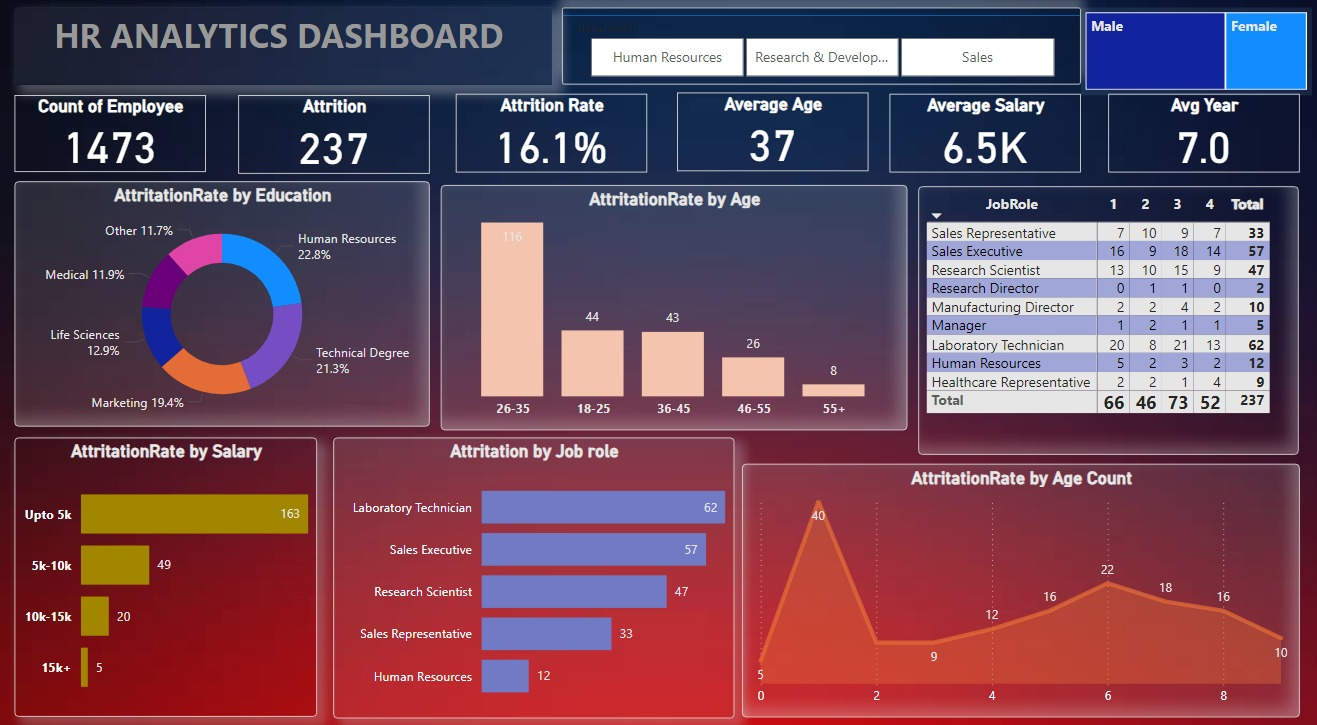

What the dashboard file says about the page in this screenshot:
{"tool":"powerbi","page":{"name":"Page 1","canvas":[1280,720],"ordinal":0},"visuals":[{"type":"card","title":"Count of Employee ","fields":{"Values":["CountNonNull(HR_Analytics.EmpID)"]},"box":[16.5,96.4,184.5,74.3],"z":0},{"type":"card","title":"Attrition","fields":{"Values":["Sum(HR_Analytics.Attrition_Count)"]},"box":[232.7,96.4,184.5,75.7],"z":1000},{"type":"card","title":"Attrition Rate","fields":{"Values":["HR_Analytics.AttritationRate"]},"box":[443.3,95,184.5,75.7],"z":2000},{"type":"card","title":"Average Age","fields":{"Values":["Avg(HR_Analytics.Age)"]},"box":[656.7,93.6,184.5,75.7],"z":3000},{"type":"card","title":"Average Salary","fields":{"Values":["Avg(HR_Analytics.MonthlyIncome)"]},"box":[861.8,95,184.5,75.7],"z":4000},{"type":"card","title":"Avg Year","fields":{"Values":["Avg(HR_Analytics.YearsAtCompany)"]},"box":[1072.4,95,184.5,75.7],"z":5000},{"type":"donutChart","title":"AttritationRate by Education","fields":{"Category":["HR_Analytics.EducationField"],"Y":["HR_Analytics.AttritationRate"]},"box":[16.5,180.3,400.6,236.8],"z":6000},{"type":"columnChart","title":"AttritationRate by Age","fields":{"Category":["HR_Analytics.AgeGroup"],"Y":["Sum(HR_Analytics.AttritionCount)"]},"box":[428.1,183.1,450.2,236.8],"z":7000},{"type":"pivotTable","title":"Job Satisfaction base of job role  ","fields":{"Rows":["HR_Analytics.JobRole"],"Columns":["HR_Analytics.JobSatisfaction"],"Values":["Sum(HR_Analytics.AttritionCount)"]},"box":[889.3,184.5,367.6,258.8],"z":8000},{"type":"barChart","title":"AttritationRate by Salary","fields":{"Category":["HR_Analytics.SalarySlab"],"Y":["Sum(HR_Analytics.AttritionCount)"]},"box":[16.5,426.8,291.8,269.8],"z":9000},{"type":"barChart","title":"Attritation by Job role ","fields":{"Y":["Sum(HR_Analytics.AttritionCount)"],"Category":["HR_Analytics.JobRole"]},"box":[324.9,426.8,386.8,271.2],"z":10000},{"type":"areaChart","title":"AttritationRate by Age Count","fields":{"Category":["HR_Analytics.TotalWorkingYears"],"Y":["Sum(HR_Analytics.AttritionCount)"]},"box":[718.6,452.9,538.3,245],"z":11000},{"type":"slicer","fields":{"Values":["HR_Analytics.Department"]},"box":[545.3,12.1,500.7,74.8],"z":12000},{"type":"textbox","box":[16.5,12.4,519,74.3],"z":13000},{"type":"treemap","fields":{"Group":["HR_Analytics.Gender"],"Values":["Sum(HR_Analytics.AttritionCount)"]},"box":[1046,12.1,223.2,84.5],"z":14000}]}

Visuals, with their boxes in screenshot pixels (x1, y1, x2, y2), scaled from the page's 1280x720 canvas onto the 1317x725 screenshot:
"Count of Employee " card: 17/97/207/172
"Attrition" card: 239/97/429/173
"Attrition Rate" card: 456/96/646/172
"Average Age" card: 676/94/866/170
"Average Salary" card: 887/96/1077/172
"Avg Year" card: 1103/96/1293/172
"AttritationRate by Education" donutChart: 17/182/429/420
"AttritationRate by Age" columnChart: 440/184/904/423
"Job Satisfaction base of job role  " pivotTable: 915/186/1293/446
"AttritationRate by Salary" barChart: 17/430/317/701
"Attritation by Job role " barChart: 334/430/732/703
"AttritationRate by Age Count" areaChart: 739/456/1293/703
slicer - HR_Analytics.Department: 561/12/1076/88
textbox: 17/12/551/87
treemap - HR_Analytics.Gender x Sum(HR_Analytics.AttritionCount): 1076/12/1306/97
